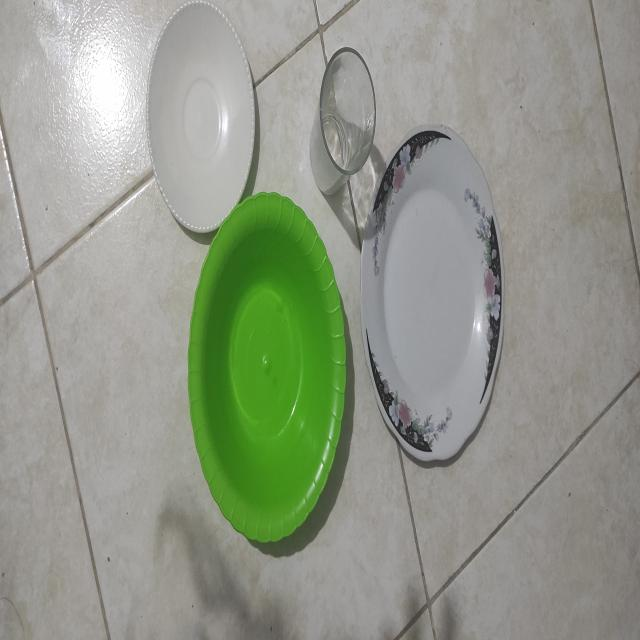non-organic waste: (184, 179, 351, 566), (356, 93, 514, 479), (138, 0, 286, 246)
